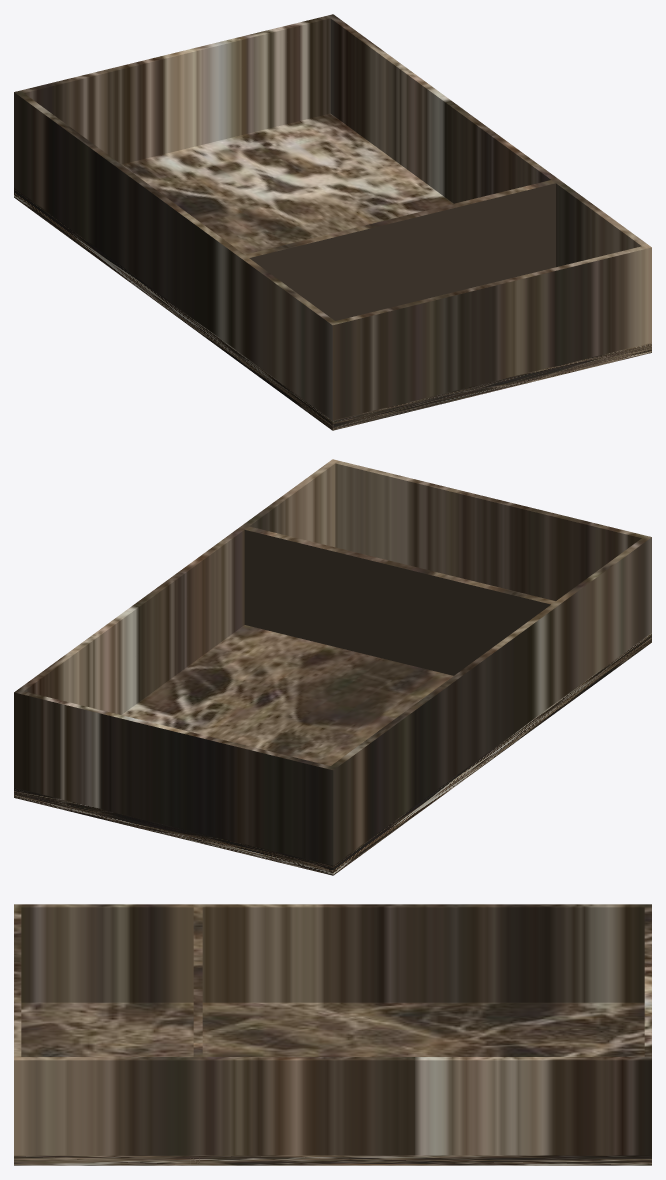
File: Armario.fbx
3 renders of one model, top to bottom at view 1: azimuth 30°, elevation 25°; view 2: azimuth 150°, elevation 25°; view 3: azimuth 270°, elevation 25°, orthographic.
Parts seen in each view (by area): view 1: Cube.007; view 2: Cube.007; view 3: Cube.007.
Boxes of the visible parts, left/top/right/bottom form: Cube.007: left=14, top=14, right=651, bottom=430; Cube.007: left=14, top=459, right=651, bottom=875; Cube.007: left=14, top=904, right=651, bottom=1165.
Size of the model in its own units: 6.65 by 2.1 by 11.5.
1 material, 1 textured.
